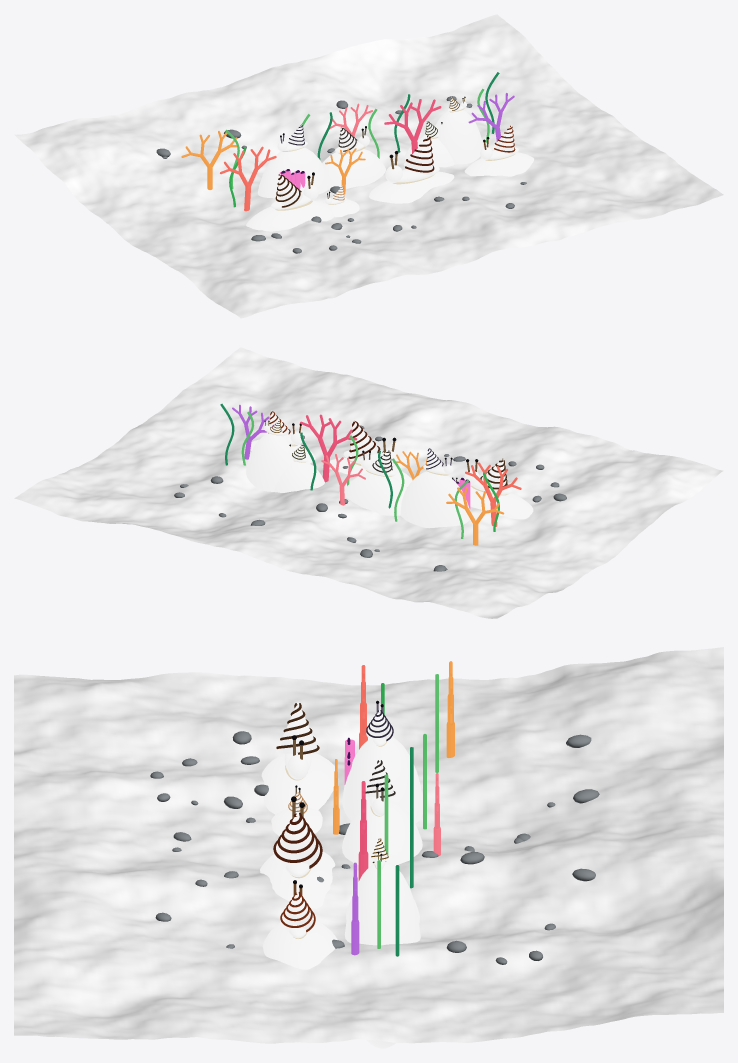
The model's file is epiphytic--canopy.glb.
The picture shows the model from 3 angles, top to bottom: view 1: azimuth 30°, elevation 25°; view 2: azimuth 150°, elevation 25°; view 3: azimuth 270°, elevation 25°; orthographic projection. The views are drawn at different scales.
Parts seen in each view (by area): view 1: Terrain, Sphere.036, Sphere.042, Sphere.012, Sphere, Sphere.018, Sphere.030, Sphere.024, Cone.003; view 2: Terrain, Sphere.036, Sphere.042, Sphere.012, Sphere.024, Sphere, Sphere.018, Cone.003; view 3: Terrain, Sphere.042, Sphere.036, Sphere.012, Sphere, Sphere.030, Sphere.018, Cone.003, Cone, Sphere.006.
Part boxes in pixels (x1=…): Terrain: x1=14, y1=14, x2=723, y2=318; Sphere.036: x1=257, y1=147, x2=328, y2=198; Sphere.042: x1=434, y1=110, x2=483, y2=164; Sphere.012: x1=322, y1=149, x2=385, y2=189; Sphere: x1=246, y1=200, x2=334, y2=231; Sphere.018: x1=369, y1=171, x2=454, y2=203; Sphere.030: x1=464, y1=152, x2=533, y2=176; Sphere.024: x1=404, y1=137, x2=454, y2=167; Cone.003: x1=403, y1=135, x2=433, y2=174; Terrain: x1=14, y1=347, x2=723, y2=618; Sphere.036: x1=400, y1=471, x2=469, y2=528; Sphere.042: x1=246, y1=433, x2=294, y2=491; Sphere.012: x1=344, y1=472, x2=406, y2=515; Sphere.024: x1=274, y1=461, x2=324, y2=492; Sphere: x1=470, y1=486, x2=533, y2=519; Sphere.018: x1=322, y1=458, x2=412, y2=486; Cone.003: x1=350, y1=420, x2=378, y2=459; Terrain: x1=14, y1=647, x2=723, y2=1043; Sphere.042: x1=344, y1=861, x2=420, y2=1048; Sphere.036: x1=342, y1=737, x2=422, y2=823; Sphere.012: x1=342, y1=800, x2=422, y2=867; Sphere: x1=261, y1=753, x2=338, y2=814; Sphere.030: x1=262, y1=921, x2=337, y2=969; Sphere.018: x1=260, y1=851, x2=335, y2=908; Cone.003: x1=273, y1=812, x2=322, y2=867; Cone: x1=276, y1=702, x2=319, y2=753; Sphere.006: x1=271, y1=807, x2=322, y2=836.
Bounding box in the file's own units: 32 × 8.97 × 26.
